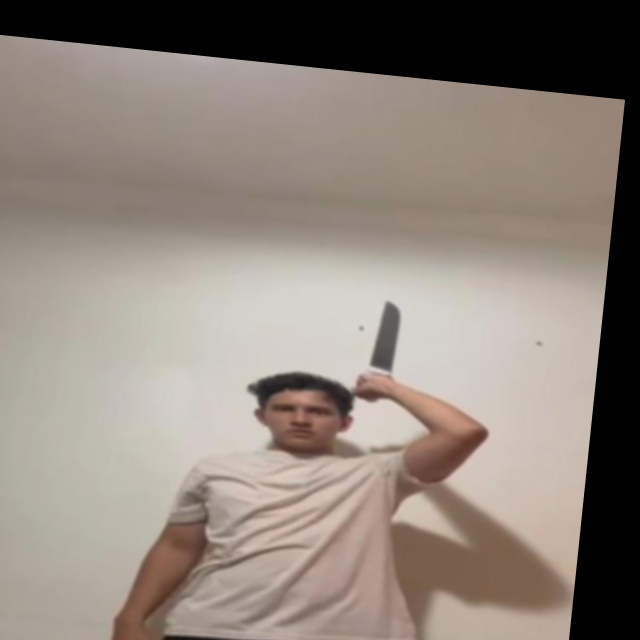Sharp-Object: (365, 294, 407, 371)
